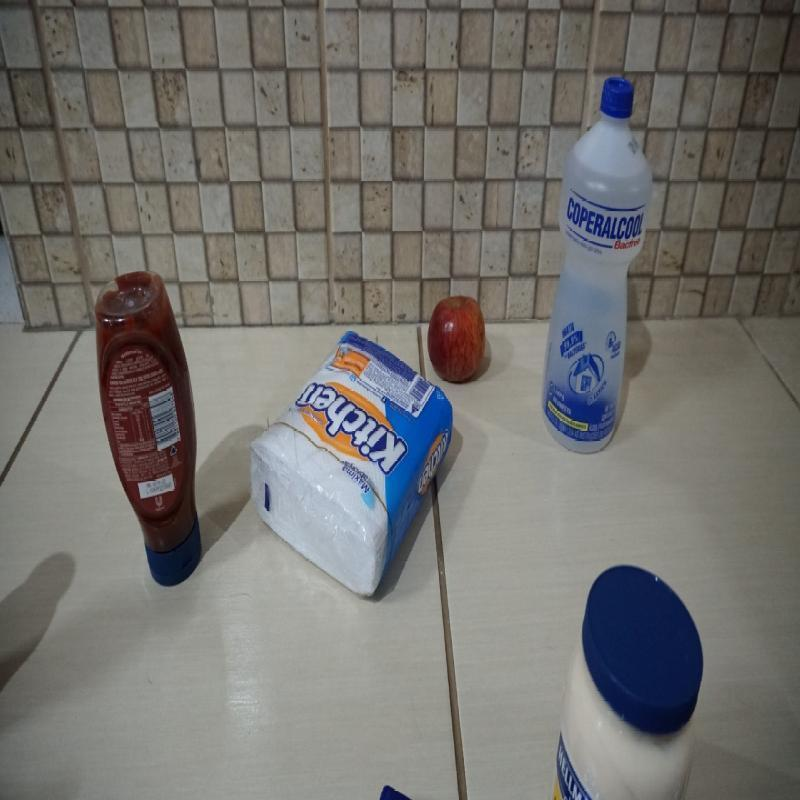Alcohol Bottle: (540, 76, 652, 454)
Apple: (427, 295, 488, 383)
Ketchup: (91, 272, 204, 591)
Mayonnaise: (547, 565, 706, 800)
Napkin: (251, 330, 452, 600)
